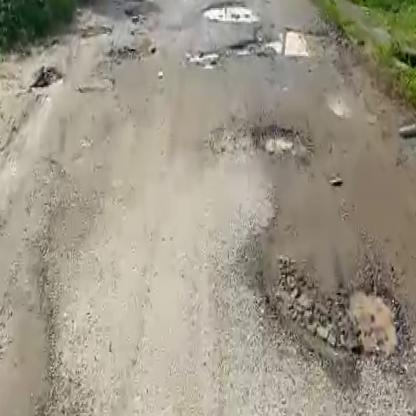pothole: (247, 251, 416, 381), (220, 25, 330, 57), (249, 121, 314, 159), (202, 0, 260, 27), (189, 48, 223, 67)
